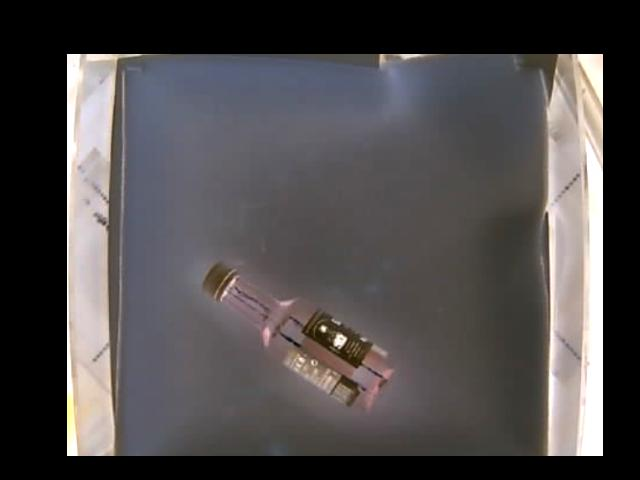Bottle: (202, 261, 391, 409)
